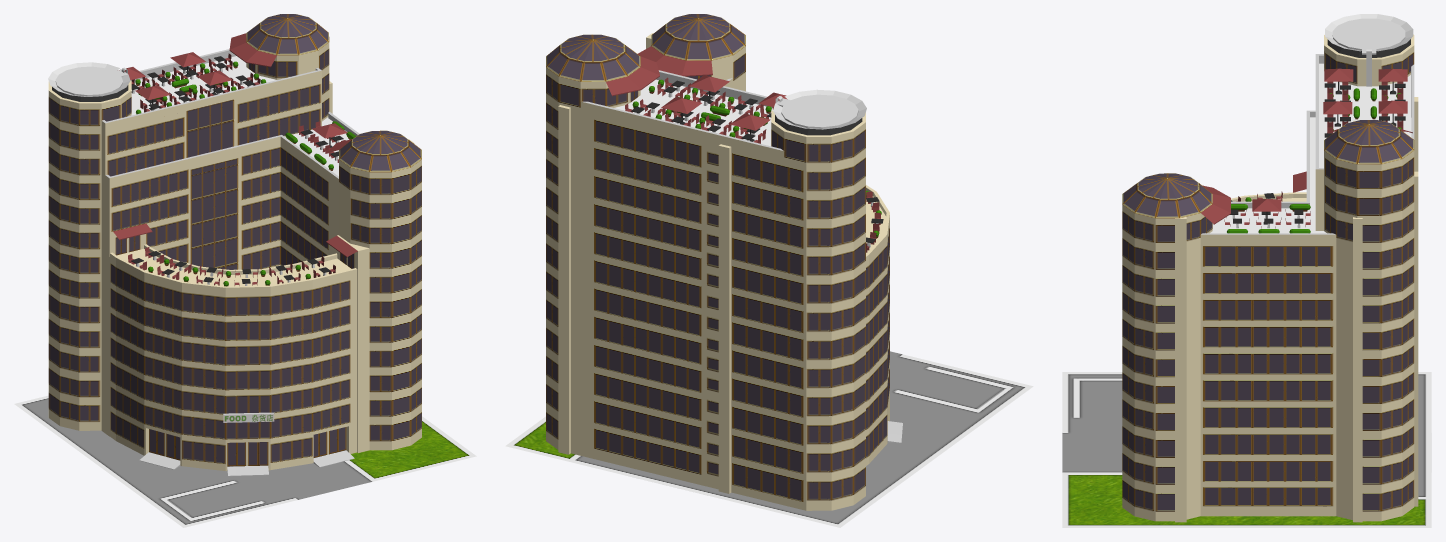
File: Supermarket_Mega.fbx
The picture shows the model from 3 angles, left to right: view 1: azimuth 30°, elevation 25°; view 2: azimuth 150°, elevation 25°; view 3: azimuth 270°, elevation 25°; orthographic projection. The views are drawn at different scales.
Visible parts, largest first — view 1: Supermarket_Mega, Supermarket_BG_Mega, Supermarket_Lvl_2.001, HelicopterPlace, HelicopterPlace_Alpha_DoubleSided; view 2: Supermarket_Mega, Supermarket_BG_Mega, Supermarket_Lvl_2.001, HelicopterPlace, HelicopterPlace_Alpha_DoubleSided; view 3: Supermarket_Mega, Supermarket_BG_Mega, Supermarket_Lvl_2.001, HelicopterPlace, HelicopterPlace_Alpha_DoubleSided.
Boxes of the visible parts, <box> form: Supermarket_Mega: <box>48,14,421,476</box>; Supermarket_BG_Mega: <box>14,395,476,527</box>; Supermarket_Lvl_2.001: <box>113,33,357,285</box>; HelicopterPlace: <box>55,66,127,96</box>; HelicopterPlace_Alpha_DoubleSided: <box>48,62,130,96</box>; Supermarket_Mega: <box>546,14,902,510</box>; Supermarket_BG_Mega: <box>505,351,1033,527</box>; Supermarket_Lvl_2.001: <box>606,46,883,252</box>; HelicopterPlace: <box>776,94,858,128</box>; HelicopterPlace_Alpha_DoubleSided: <box>773,89,866,129</box>; Supermarket_Mega: <box>1122,34,1418,522</box>; Supermarket_BG_Mega: <box>1062,372,1431,527</box>; Supermarket_Lvl_2.001: <box>1201,68,1412,228</box>; HelicopterPlace: <box>1332,18,1405,54</box>; HelicopterPlace_Alpha_DoubleSided: <box>1325,14,1413,86</box>.
Size of the model in its own units: 4000 by 4526 by 4000.
